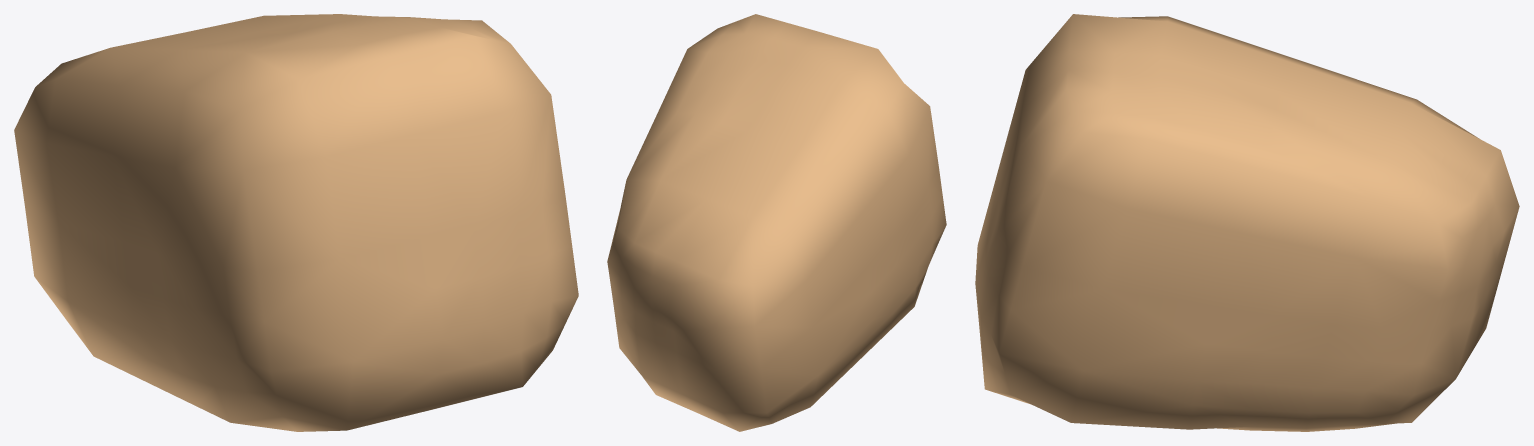
File: thumb_03_l.dae
3 renders of one model, left to right at view 1: azimuth 30°, elevation 25°; view 2: azimuth 150°, elevation 25°; view 3: azimuth 270°, elevation 25°, orthographic. The views are drawn at different scales.
Visible parts, largest first — view 1: skin_geo_thumb_03_r; view 2: skin_geo_thumb_03_r; view 3: skin_geo_thumb_03_r.
Part boxes in pixels (x1,y1,x2,y2): skin_geo_thumb_03_r: (14, 14, 578, 431); skin_geo_thumb_03_r: (607, 14, 946, 431); skin_geo_thumb_03_r: (975, 14, 1519, 431).
Size of the model in its own units: 0.02 by 0.0305 by 0.0226.
